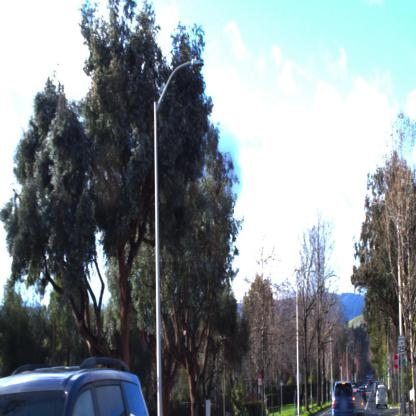car: (0, 364, 167, 416), (334, 382, 356, 415), (374, 382, 389, 410), (352, 386, 366, 416), (373, 379, 380, 397)
